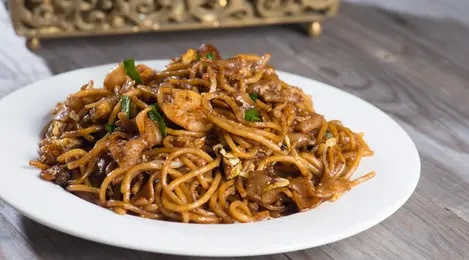mie_aceh: (40, 52, 367, 225)
